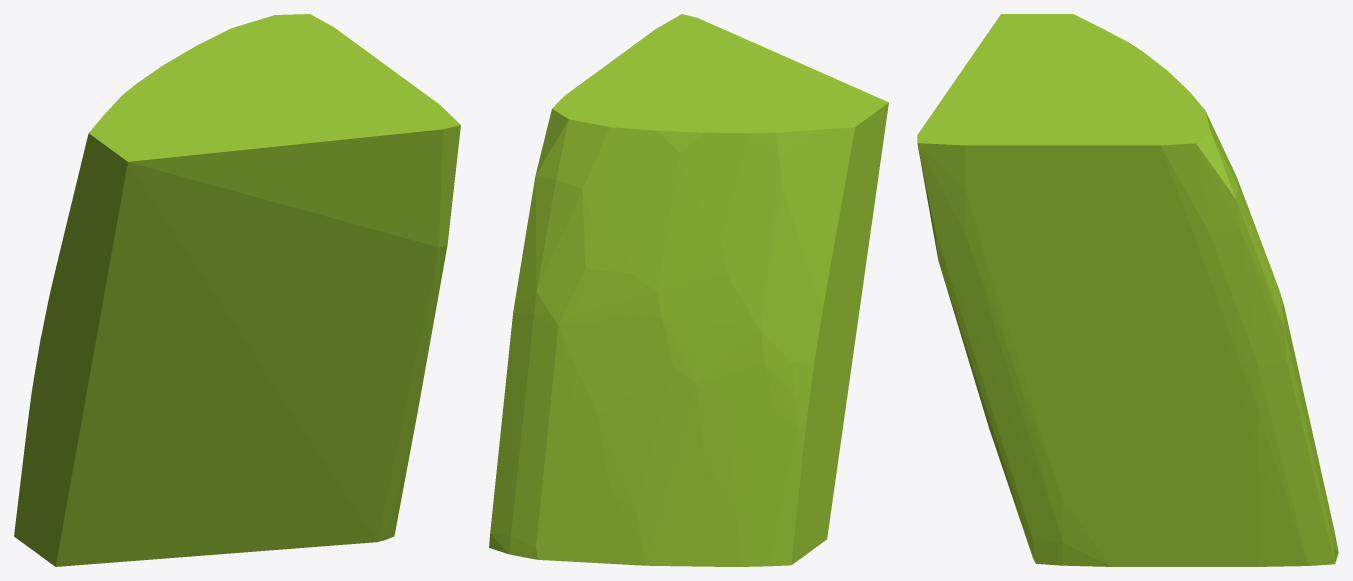
The model's file is left-shoulder-pitch-0_part_34.obj.
3 views of the same model, side by side, from view 1: azimuth 30°, elevation 25°; view 2: azimuth 150°, elevation 25°; view 3: azimuth 270°, elevation 25° (orthographic). The views are drawn at different scales.
Bounding box in the file's own units: 0.0129 × 0.0193 × 0.0175.
